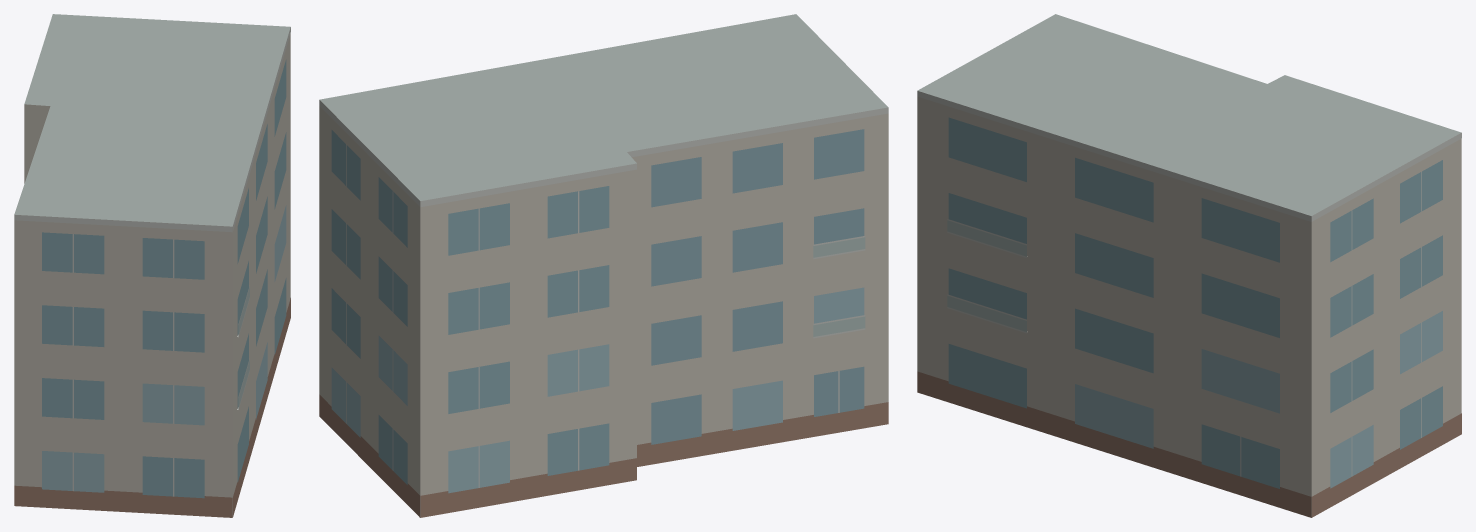
File: survey-upis-32628281.glb
The picture shows the model from 3 angles, left to right: view 1: azimuth 30°, elevation 25°; view 2: azimuth 150°, elevation 25°; view 3: azimuth 270°, elevation 25°; orthographic projection. The views are drawn at different scales.
Visible parts, largest first — view 1: survey-upis-32628281.tmp; view 2: survey-upis-32628281.tmp; view 3: survey-upis-32628281.tmp.
Boxes of the visible parts, x1,y1,x2,y2 form: survey-upis-32628281.tmp: (14, 14, 290, 517); survey-upis-32628281.tmp: (319, 14, 888, 517); survey-upis-32628281.tmp: (917, 14, 1461, 517).
Size of the model in its own units: 18.26 by 12.7 by 20.78.
